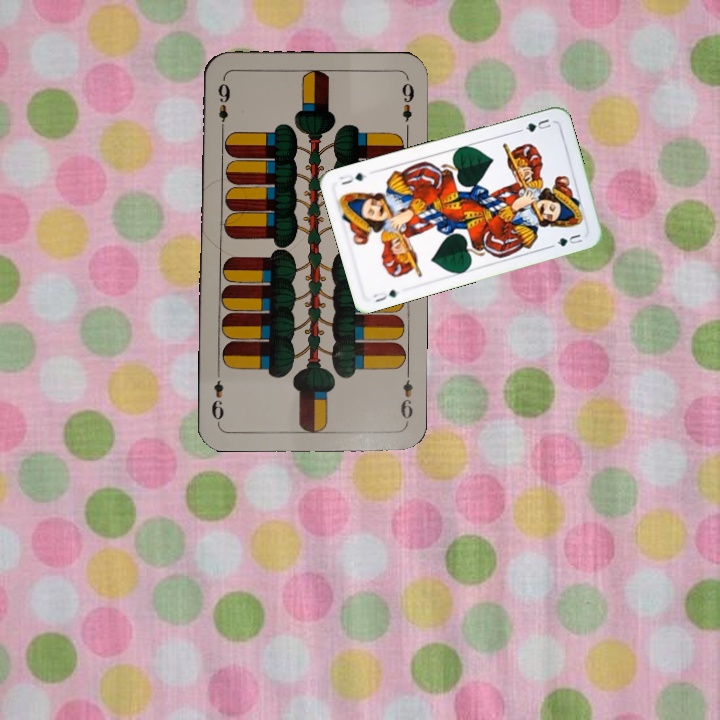E9: (397, 367, 416, 426), (214, 76, 232, 135)
GU: (515, 115, 553, 135), (369, 285, 400, 305)
